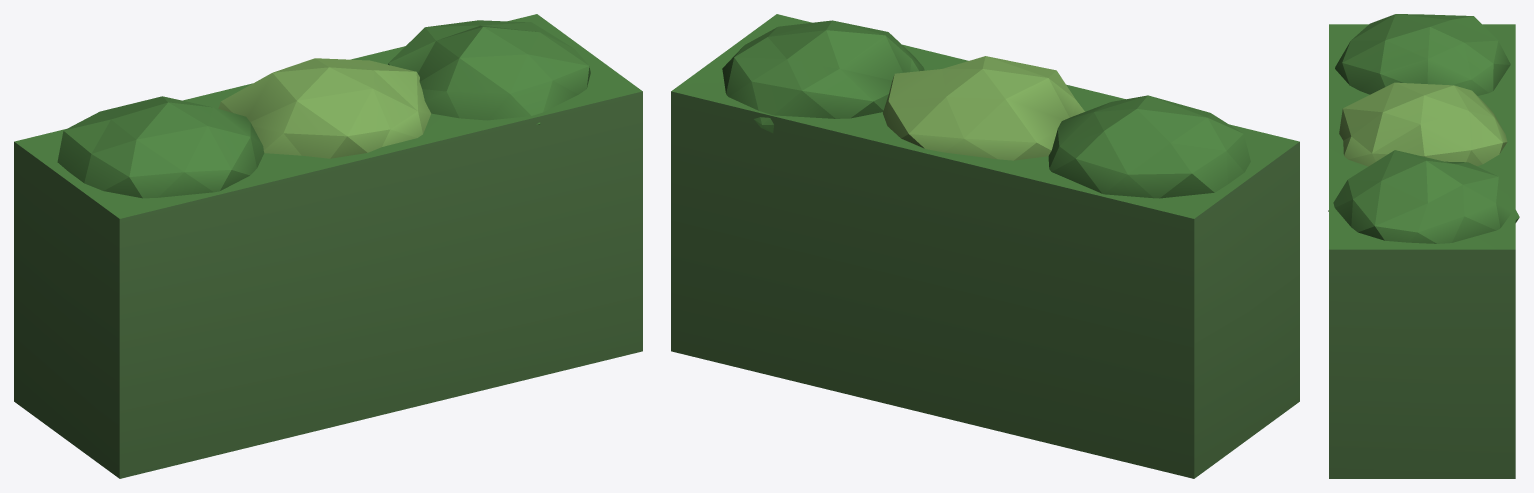
The model's file is hedge_section.glb.
3 views of the same model, side by side, from view 1: azimuth 30°, elevation 25°; view 2: azimuth 150°, elevation 25°; view 3: azimuth 270°, elevation 25° (orthographic). The views are drawn at different scales.
Parts seen in each view (by area): view 1: Body; view 2: Body; view 3: Body.
Part boxes in pixels (left/top/right/bottom): Body: left=14, top=14, right=642, bottom=478; Body: left=671, top=14, right=1299, bottom=478; Body: left=1328, top=14, right=1519, bottom=478.
Bounding box in the file's own units: 2 × 1.13 × 0.7188.
Materials: 1 (1 with a texture image).
